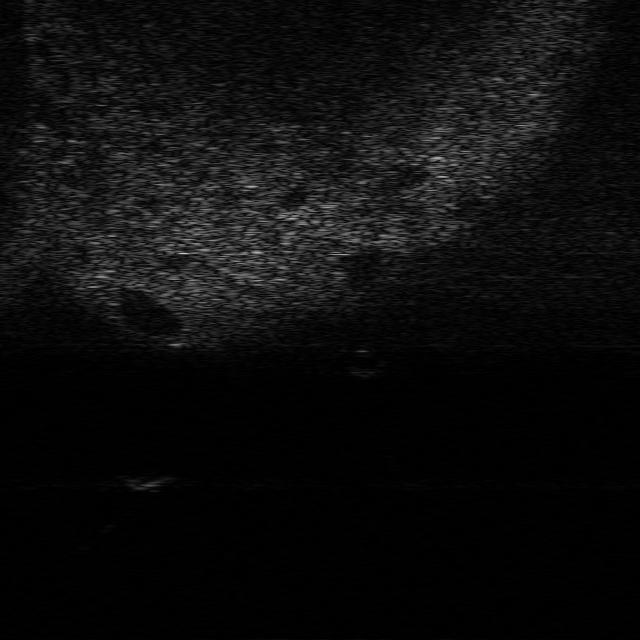ball: (342, 348, 388, 379)
cube: (114, 473, 181, 494)
